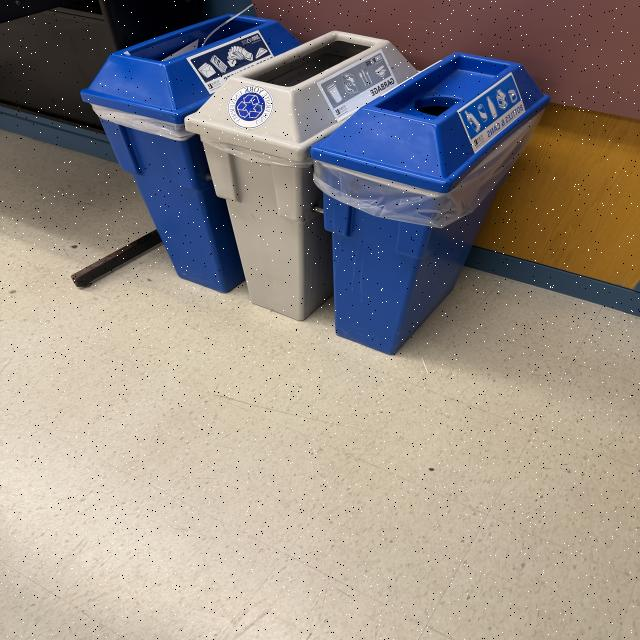Dustbin: (79, 9, 552, 357)
